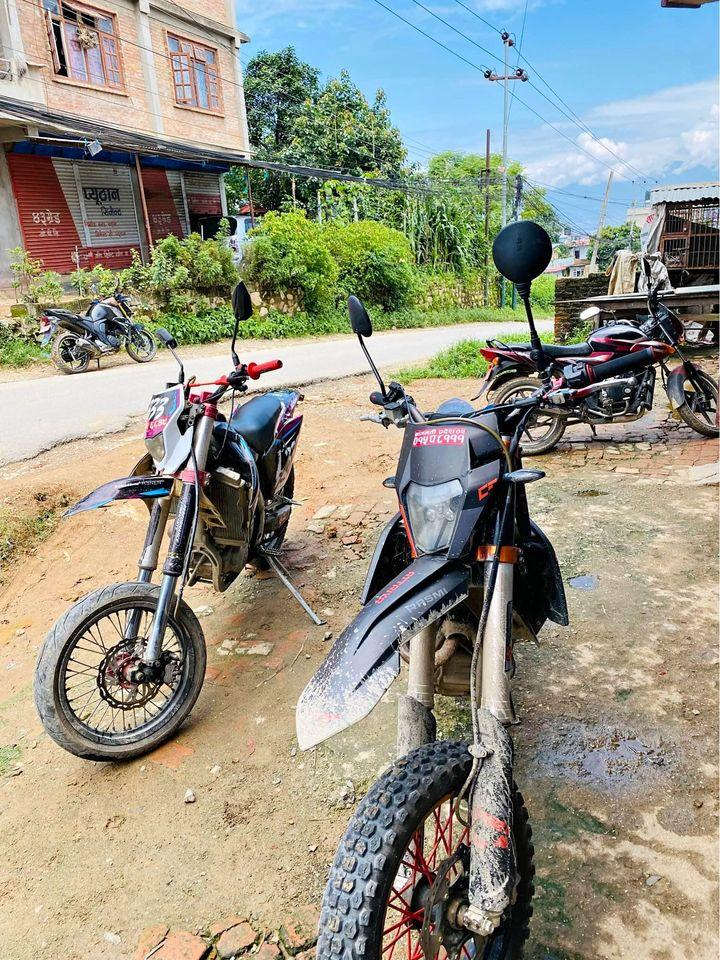bike: (286, 220, 589, 960), (23, 279, 306, 781), (479, 241, 720, 451)
